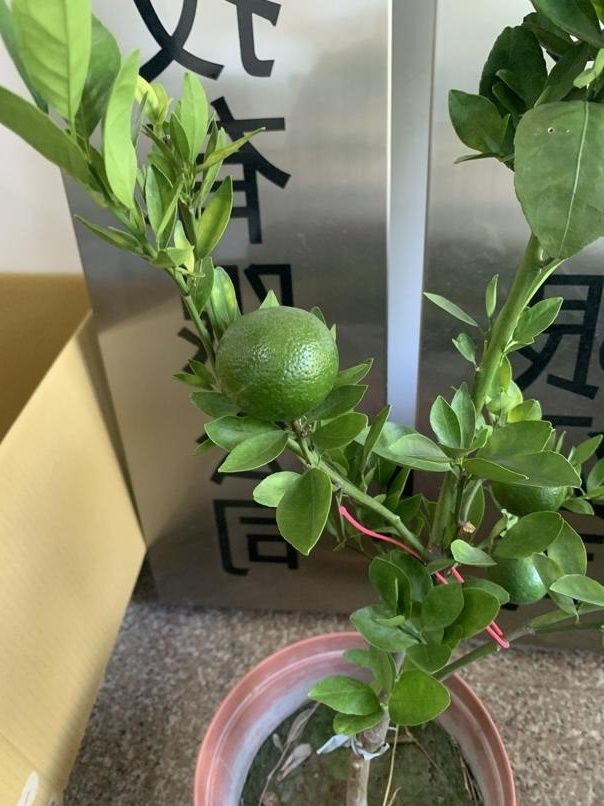Tangerine: (214, 306, 339, 420)
